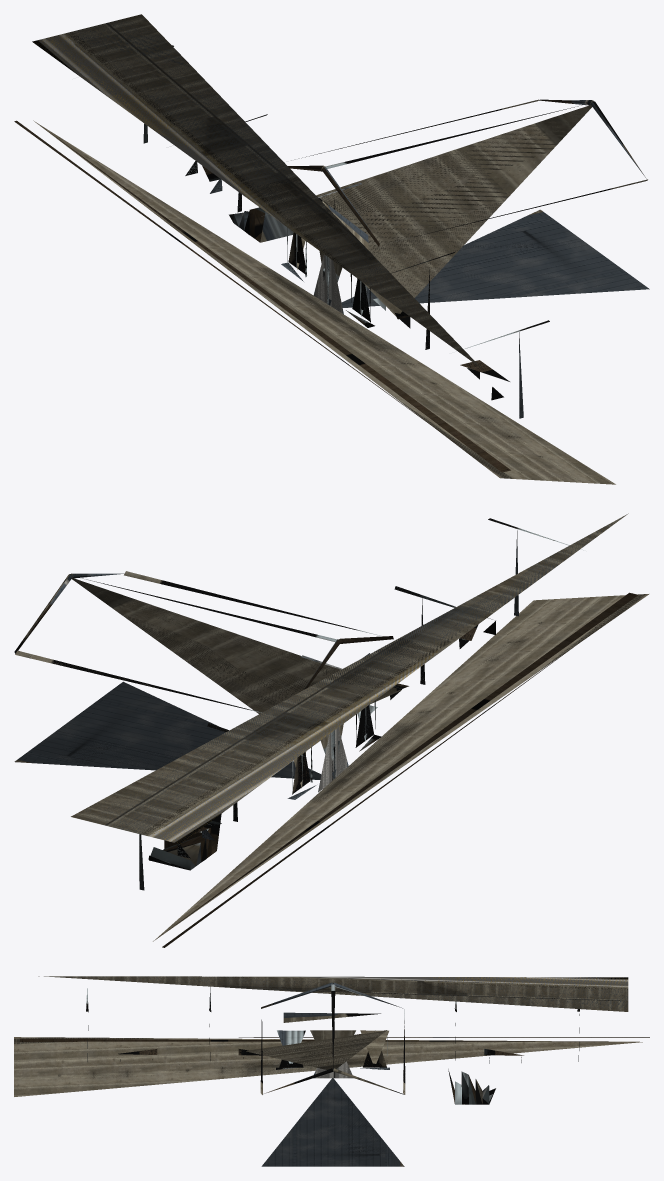
File: station_001.lod2.obj
3 views of the same model, one above another, from view 1: azimuth 30°, elevation 25°; view 2: azimuth 150°, elevation 25°; view 3: azimuth 270°, elevation 25° (orthographic). The views are drawn at different scales.
Parts seen in each view (by area): view 1: station_001; view 2: station_001; view 3: station_001.
Boxes of the visible parts, x1,y1,x2,y2 form: station_001: (14,14,649,484); station_001: (14,513,648,947); station_001: (14,976,649,1166).
Bounding box in the file's own units: 10.49 × 4.49 × 26.
1 material, 1 textured.
